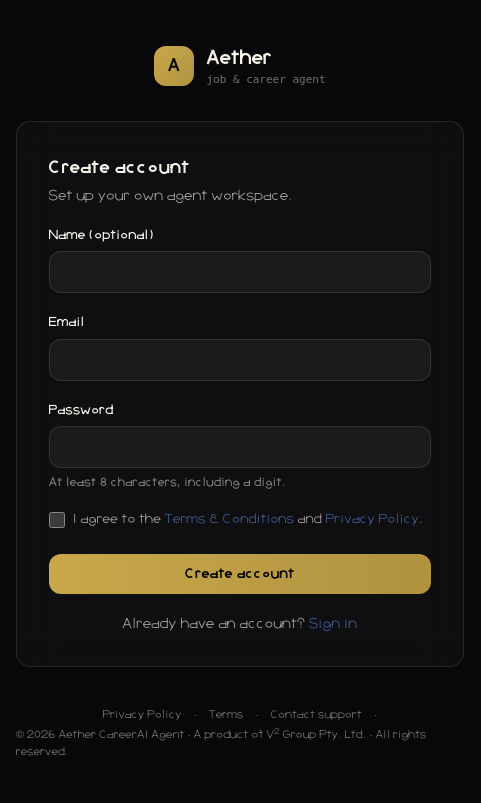
Test: SignupPage › shows an honest 429 rate-limit message
Type "spam@example.com" into the field labelled "Email" at (240, 360), box x1=49 y1=338 x2=431 y2=380
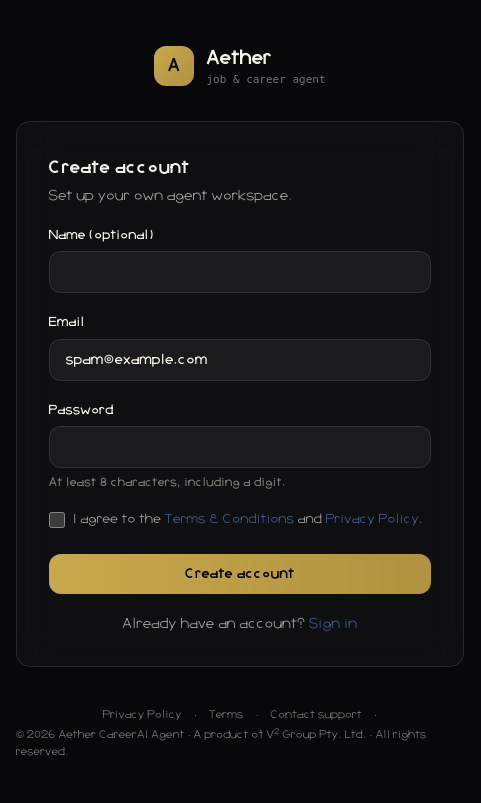
Type "abcdefg1" into the password field labelled "Password" at (240, 447), box x1=49 y1=426 x2=431 y2=468
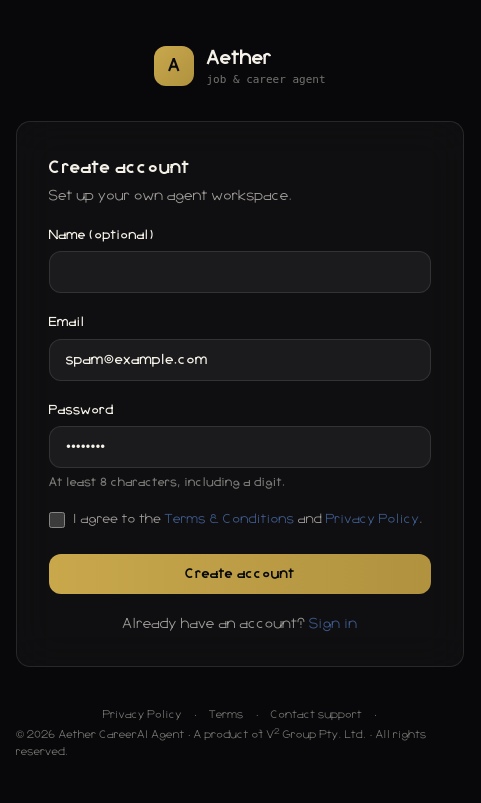
Click the checkbox labelled "I agree to the Terms & Conditions and Privacy Policy ." at (57, 520), box x1=49 y1=512 x2=65 y2=528
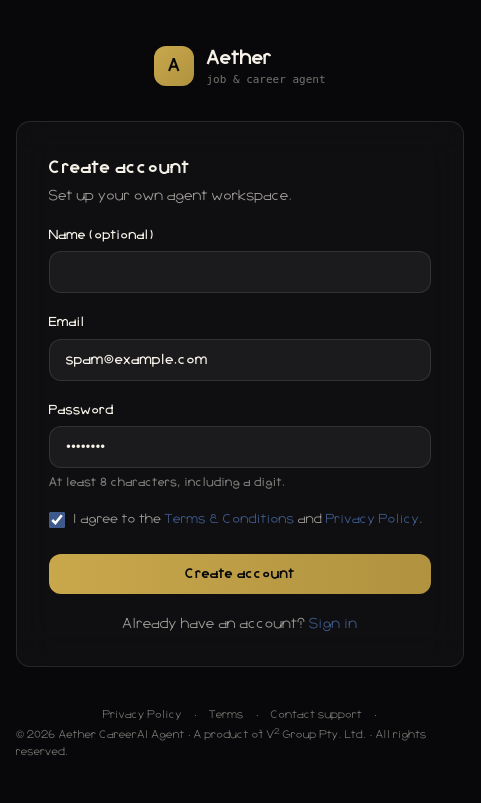
Click the button "Create account" at (240, 574), box x1=49 y1=554 x2=431 y2=594
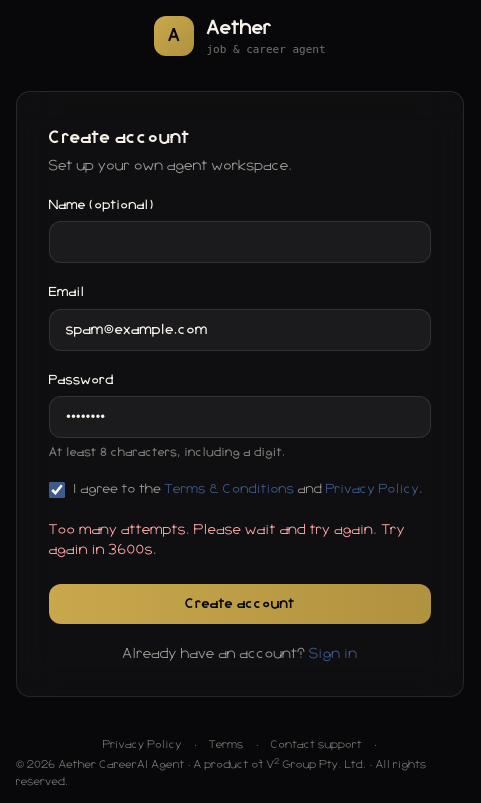
Expected: the message with test id "signup-error" shows "Too many attempts", x1=49 y1=522 x2=405 y2=556
